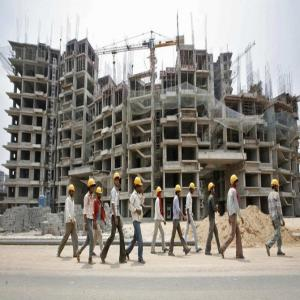yellow: (231, 175, 240, 192), (89, 178, 97, 196), (135, 178, 142, 193), (272, 180, 279, 194), (114, 174, 121, 187), (97, 186, 103, 200), (209, 183, 216, 195), (69, 185, 75, 198), (176, 186, 182, 198), (190, 183, 196, 195), (157, 188, 163, 199)
